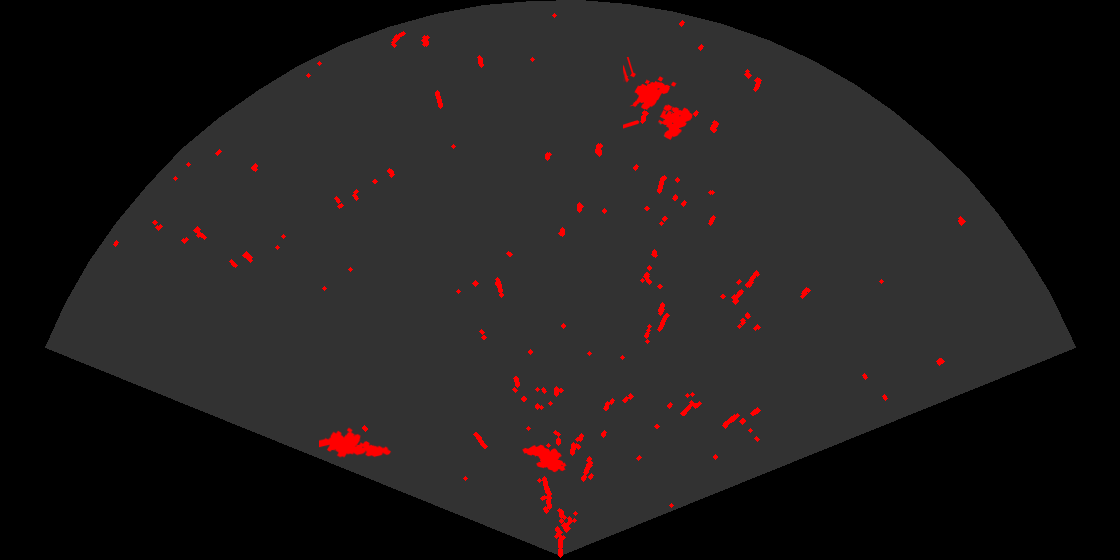AUV: (521, 443, 568, 474)
cage: (623, 57, 694, 141)
frogman: (319, 426, 392, 459)
